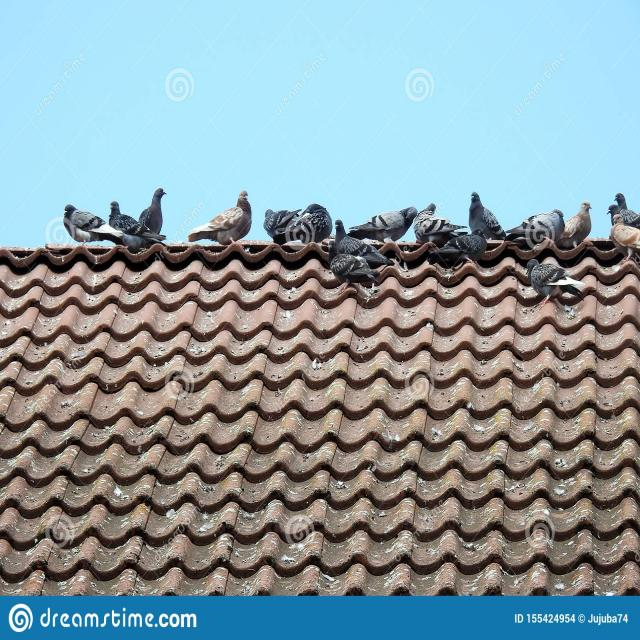bird: (328, 219, 393, 284), (186, 189, 253, 248), (262, 202, 334, 248), (348, 205, 419, 246), (505, 208, 566, 253), (412, 203, 470, 249), (525, 260, 588, 300), (427, 232, 487, 271), (467, 190, 508, 242), (90, 218, 146, 254), (62, 203, 108, 246), (558, 201, 593, 250), (609, 208, 640, 259), (138, 187, 168, 237), (108, 199, 142, 236), (607, 192, 628, 227)
